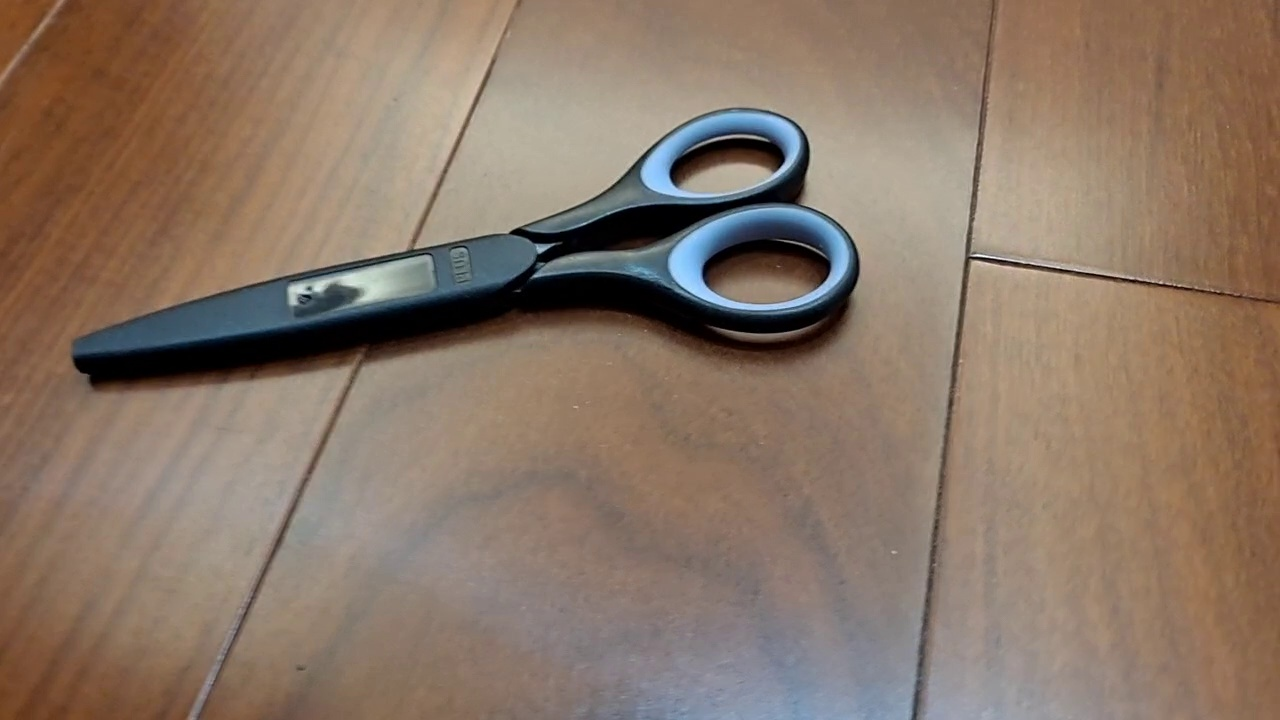scissors: (71, 106, 861, 389)
